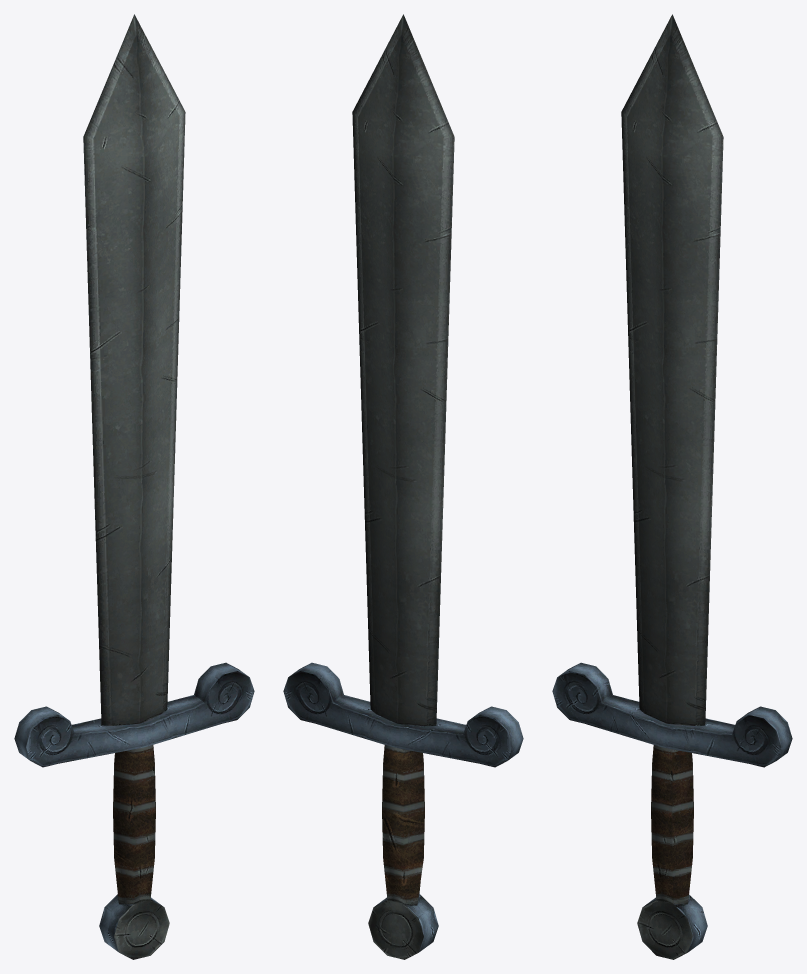
The model's file is sword_dark.obj.
The picture shows the model from 3 angles, left to right: view 1: azimuth 30°, elevation 25°; view 2: azimuth 150°, elevation 25°; view 3: azimuth 330°, elevation 25°; orthographic projection.
Parts seen in each view (by area): view 1: sword_dark; view 2: sword_dark; view 3: sword_dark.
Boxes of the visible parts, x1=… form: sword_dark: x1=14, y1=14, x2=254, y2=959; sword_dark: x1=283, y1=14, x2=523, y2=959; sword_dark: x1=552, y1=14, x2=792, y2=959.
Size of the model in its own units: 58.12 by 228 by 9.43.
Materials: 1 (1 with a texture image).
